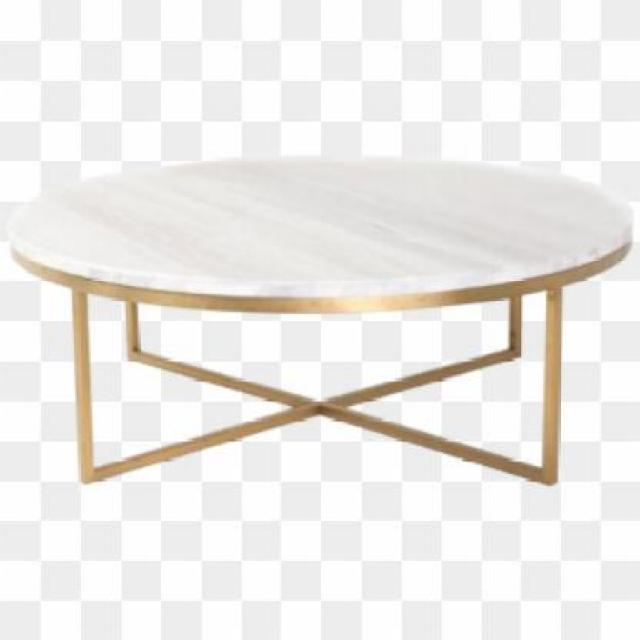table: (4, 154, 638, 488)
